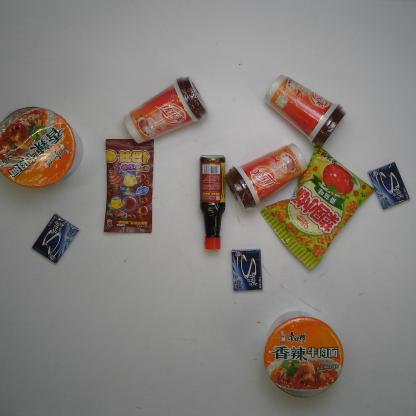Candy: (103, 138, 155, 236)
Gum: (30, 211, 81, 266), (366, 160, 410, 212), (230, 247, 263, 293)
Instant Drink: (262, 74, 348, 148), (122, 73, 210, 145), (224, 142, 308, 212)
Instant Noodles: (262, 308, 346, 402), (0, 105, 84, 189)
Puffed Food: (258, 144, 377, 272)
Seasoner: (199, 153, 227, 252)
